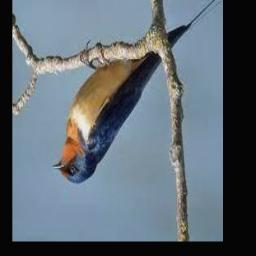Swallow: (53, 0, 221, 184)
